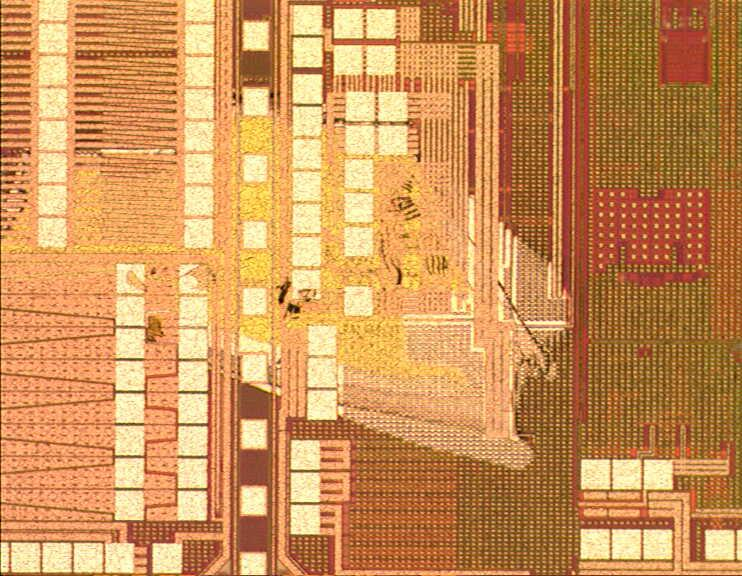BLOCK ETCH: (1, 81, 584, 484)
